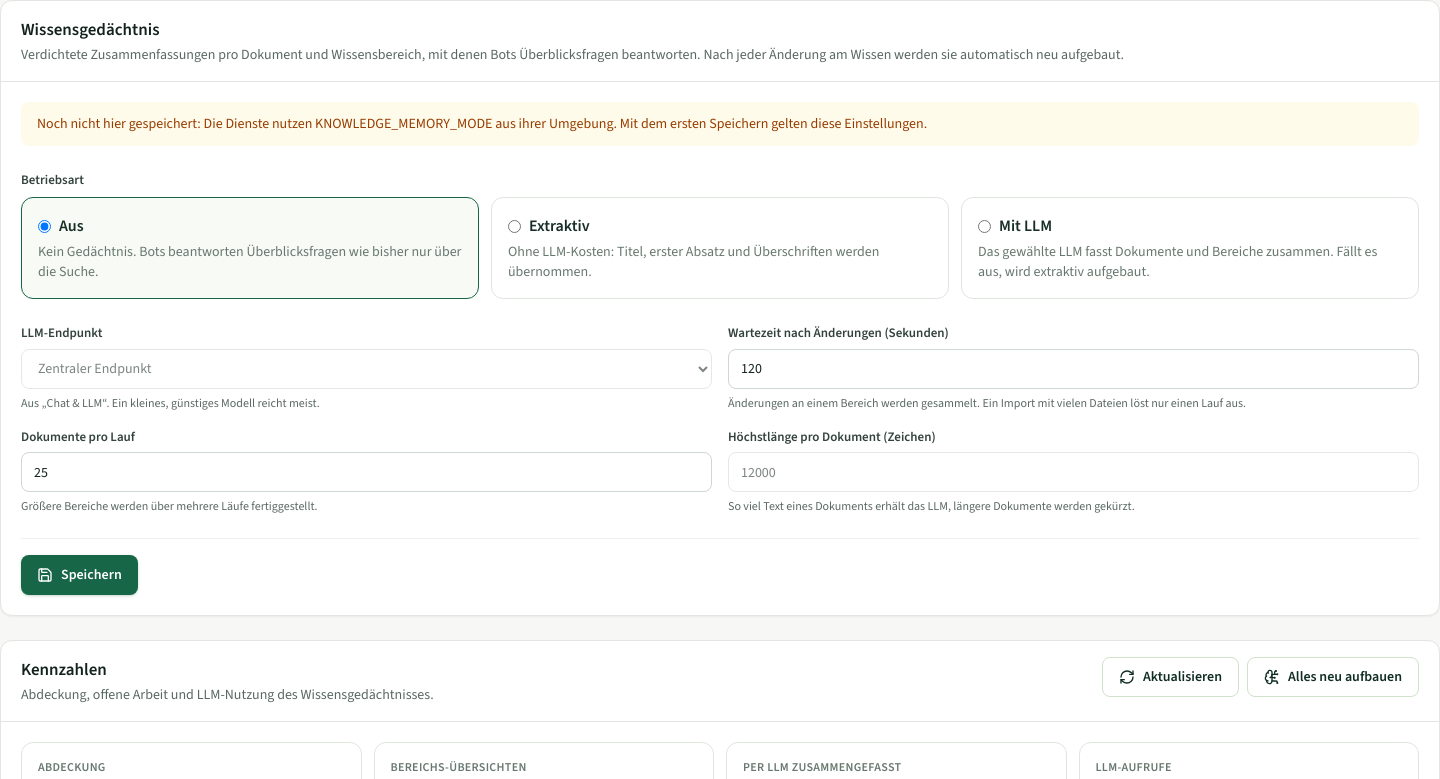
Scenario: saves mode, endpoint and limits
The width and height of the screenshot is (1440, 779).
Check: the text "Noch nicht hier gespeichert" is shown, box [37, 114, 927, 132]
Click the radio button labelled "Mit LLM".
click(984, 226)  # box [978, 220, 991, 232]
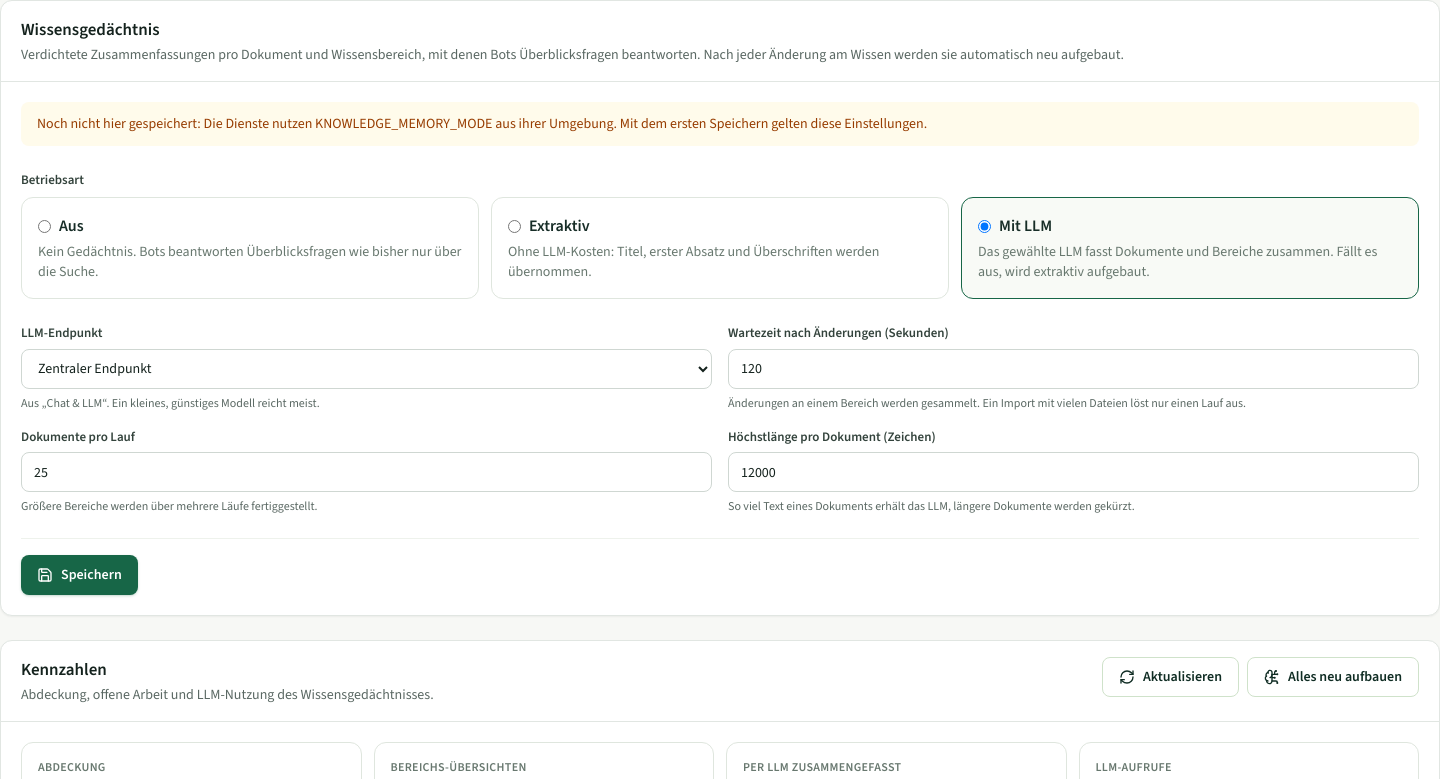
Select "Kleines Modell" in the dropdown labelled "LLM-Endpunkt" at (366, 368), box [21, 348, 712, 388]
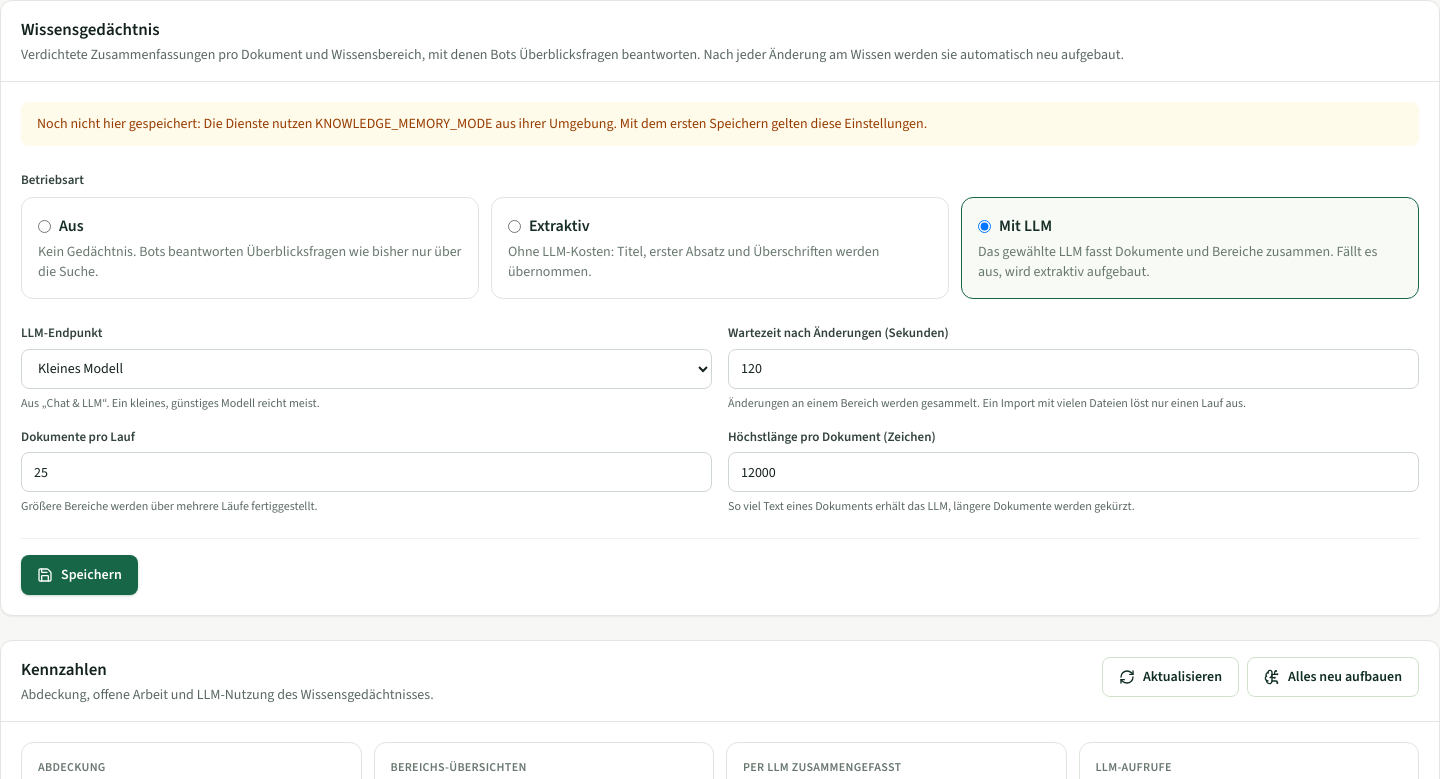
Replace the text in the number field labelled "Dokumente pro Lauf" with "10" at (366, 472), box [21, 452, 712, 492]
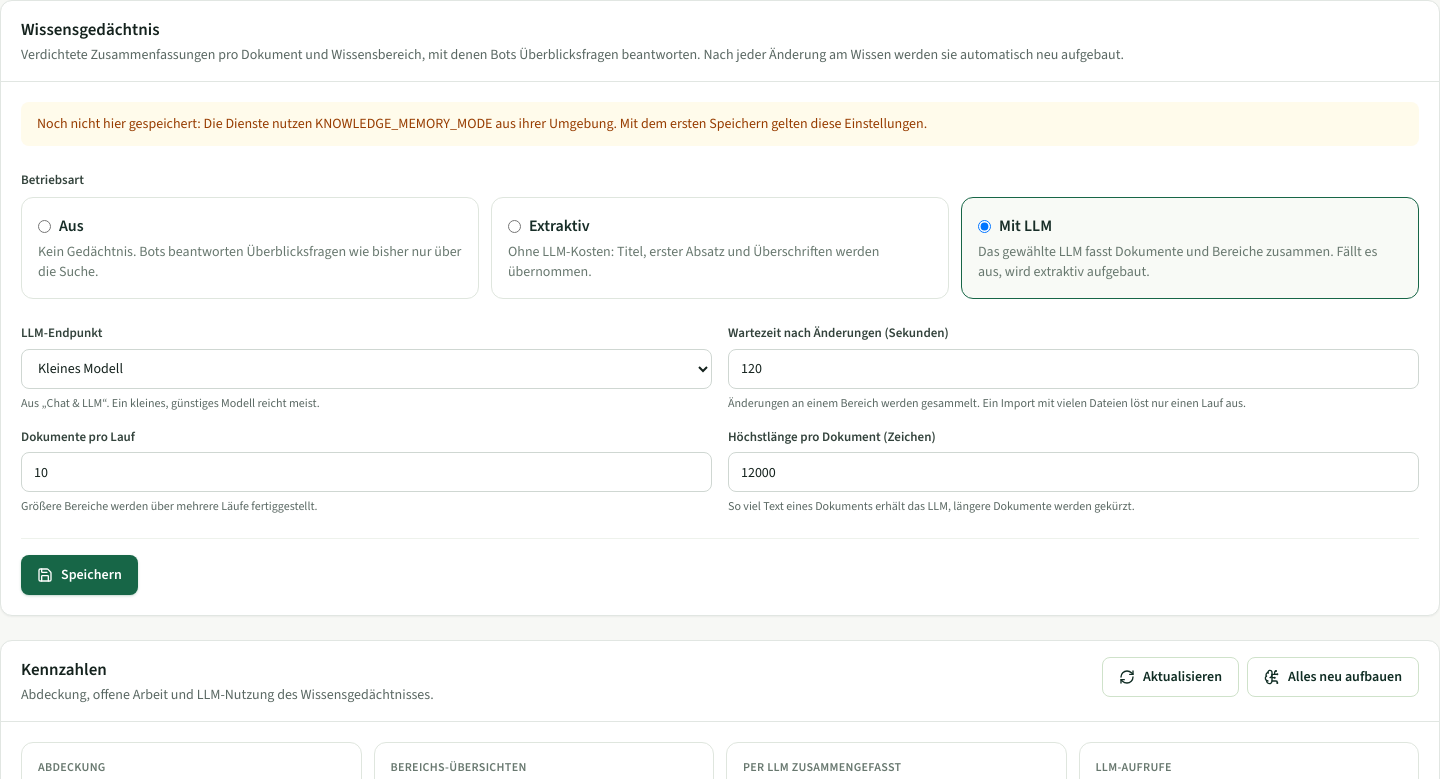
Click the button "Speichern".
click(79, 575)  # box [21, 555, 138, 595]
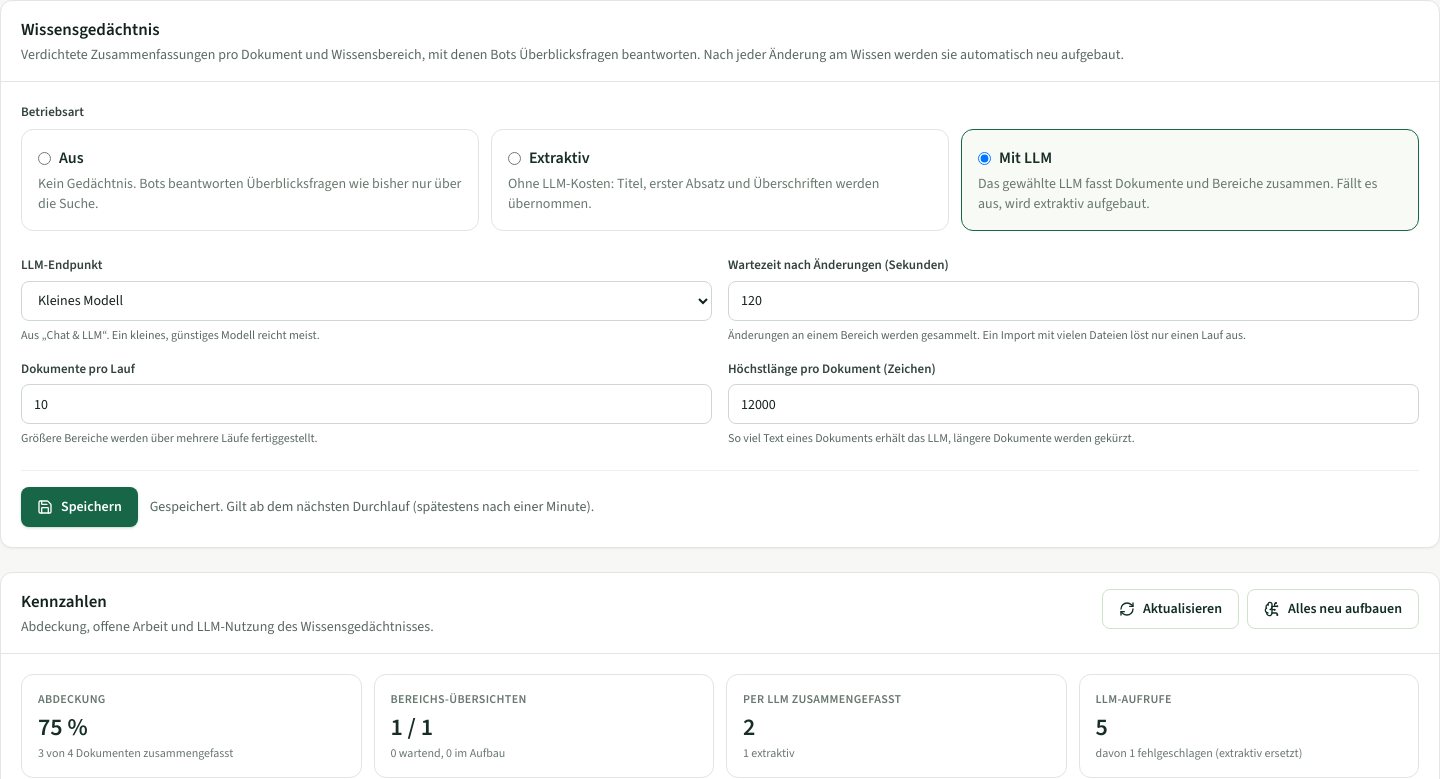
Check: the text "Gespeichert. Gilt ab dem nächsten Durchlauf (spätestens nach einer Minute)." is shown, box [150, 497, 594, 517]
